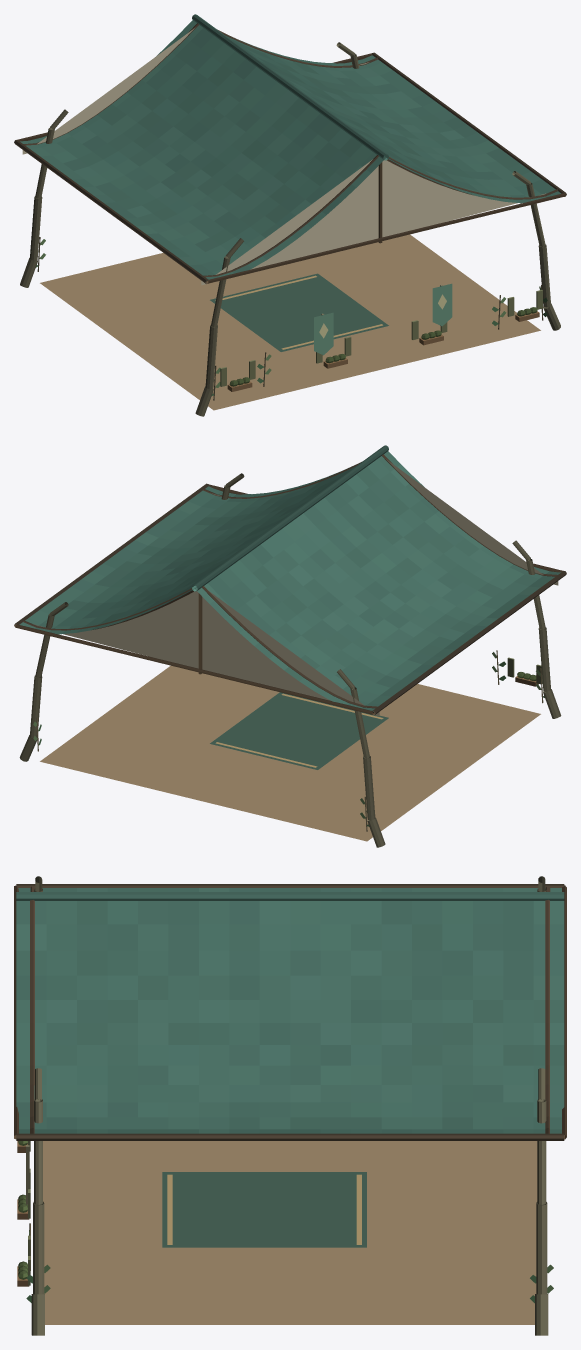
3 views of the same model, one above another, from view 1: azimuth 30°, elevation 25°; view 2: azimuth 150°, elevation 25°; view 3: azimuth 270°, elevation 25° (orthographic). The views are drawn at different scales.
Visible parts, largest first — view 1: 232de22b86e0d741120a2716d6dd91ea9c654813604d9101308ca36257c4; view 2: 232de22b86e0d741120a2716d6dd91ea9c654813604d9101308ca36257c4; view 3: 232de22b86e0d741120a2716d6dd91ea9c654813604d9101308ca36257c4.
Part boxes in pixels (box(x1,y1,x2,y2)): 232de22b86e0d741120a2716d6dd91ea9c654813604d9101308ca36257c4: box(14, 14, 566, 416); 232de22b86e0d741120a2716d6dd91ea9c654813604d9101308ca36257c4: box(14, 445, 566, 847); 232de22b86e0d741120a2716d6dd91ea9c654813604d9101308ca36257c4: box(14, 876, 566, 1335).
Bounding box in the file's own units: 14.13 × 8.31 × 12.97.
Materials: 6 (1 with a texture image).
